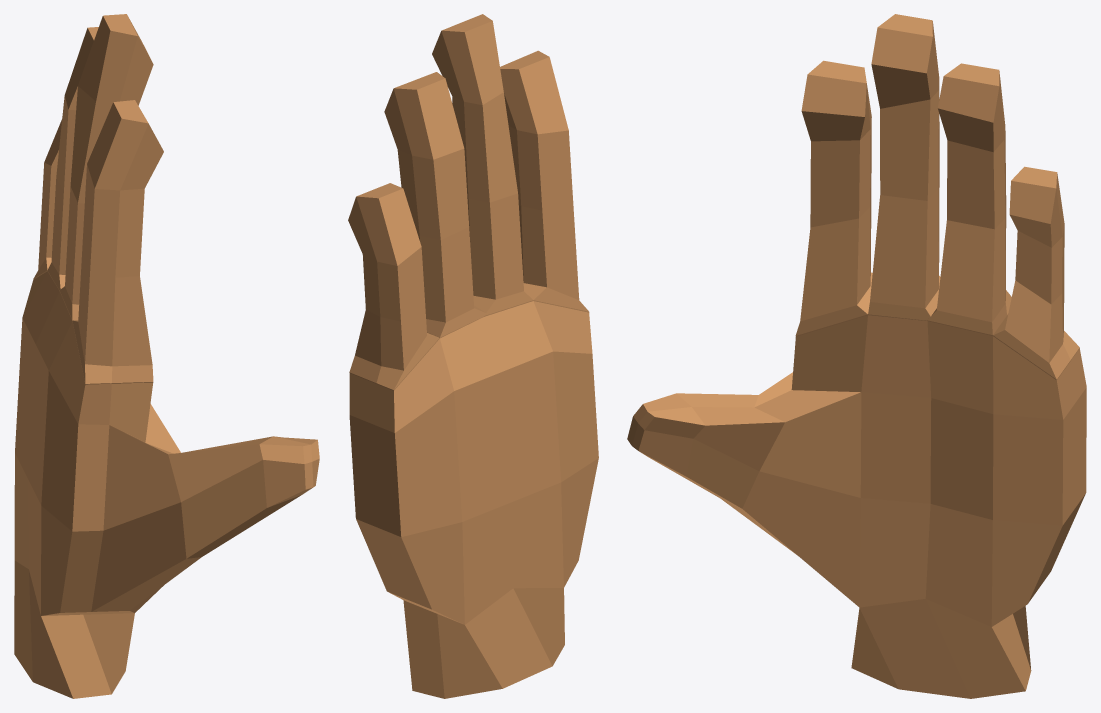
Rendered from hand.glb.
3 views of the same model, side by side, from view 1: azimuth 30°, elevation 25°; view 2: azimuth 150°, elevation 25°; view 3: azimuth 270°, elevation 25° (orthographic). The views are drawn at different scales.
Visible parts, largest first — view 1: Cube; view 2: Cube; view 3: Cube.
Boxes of the visible parts, <box> form: Cube: <box>14,14,319,698</box>; Cube: <box>348,14,598,698</box>; Cube: <box>627,14,1086,698</box>.
Bounding box in the file's own units: 1.81 × 6.8 × 4.24.
